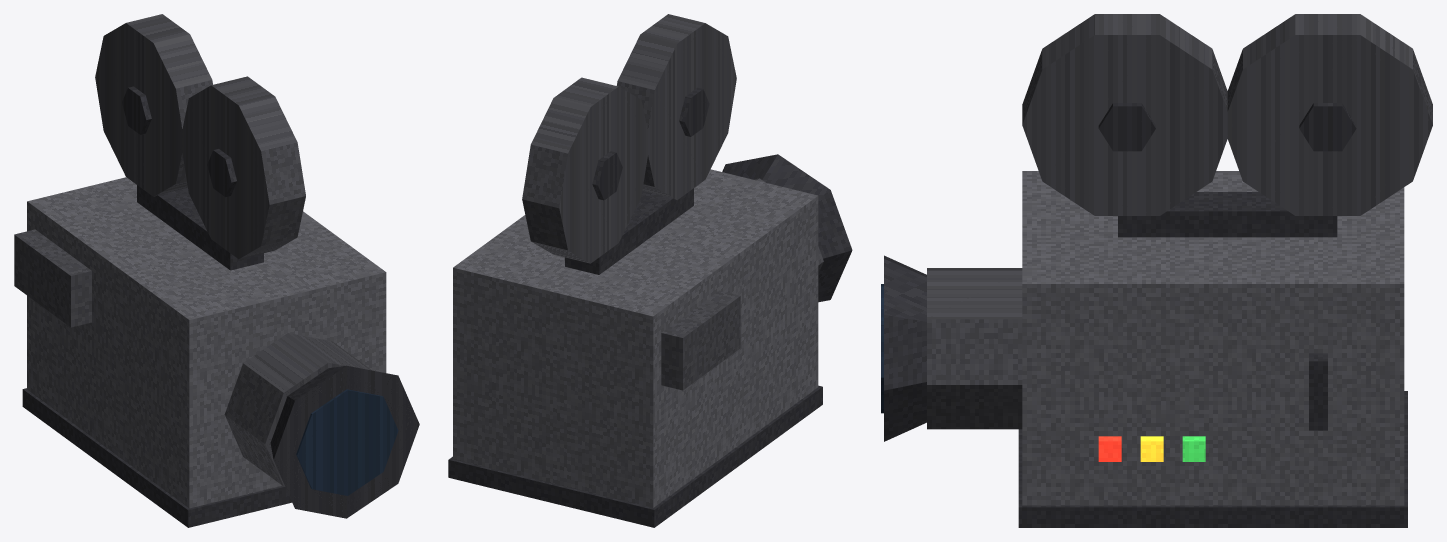
Rendered from 01-camera.glb.
3 renders of one model, left to right at view 1: azimuth 30°, elevation 25°; view 2: azimuth 150°, elevation 25°; view 3: azimuth 270°, elevation 25°, orthographic. The views are drawn at different scales.
Parts seen in each view (by area): view 1: Body, Reel 0, Reel 1, Lens hood, Lens, Lens glass, Body trim, Viewfinder, Reel arm, Reel hub 1, Reel hub 0; view 2: Body, Reel 1, Reel 0, Body trim, Viewfinder, Lens hood, Reel arm, Reel hub 0, Reel hub 1; view 3: Body, Reel 0, Reel 1, Lens, Body trim, Reel arm, Lens hood, Reel hub 0, Reel hub 1, Crank.
Boxes of the visible parts, x1,y1,x2,y2 form: Body: (27, 177, 386, 508); Reel 0: (182, 76, 305, 259); Reel 1: (95, 14, 212, 196); Lens hood: (270, 365, 419, 518); Lens: (224, 333, 371, 486); Lens glass: (296, 389, 398, 495); Body trim: (22, 388, 291, 527); Viewfinder: (14, 229, 91, 327); Reel arm: (137, 185, 263, 270); Reel hub 1: (122, 86, 151, 134); Reel hub 0: (207, 149, 236, 197); Body: (453, 169, 818, 507); Reel 1: (522, 77, 649, 263); Reel 0: (616, 14, 736, 200); Body trim: (448, 385, 822, 527); Viewfinder: (661, 290, 740, 390); Lens hood: (722, 154, 852, 302); Reel arm: (565, 188, 693, 274); Reel hub 0: (679, 87, 709, 136); Reel hub 1: (592, 151, 622, 200); Body: (1022, 171, 1404, 505); Reel 0: (1022, 14, 1232, 215); Reel 1: (1223, 14, 1432, 215); Lens: (927, 268, 1022, 429); Body trim: (1018, 391, 1407, 527); Reel arm: (1118, 192, 1337, 237); Lens hood: (884, 255, 926, 441); Reel hub 0: (1098, 103, 1155, 151); Reel hub 1: (1299, 103, 1356, 151); Crank: (1309, 353, 1327, 430).
Bounding box in the file's own units: 0.165 × 0.2573 × 0.289.
7 materials, 7 textured.
